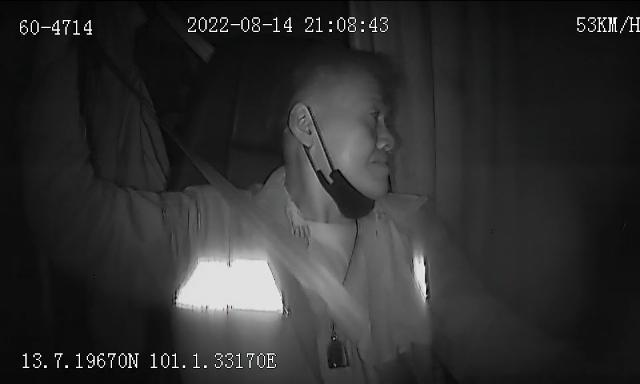Seatbelt: (188, 152, 370, 330)
